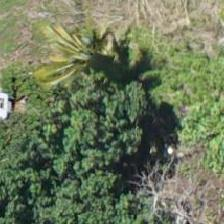coconut_tree: (45, 16, 135, 106)
